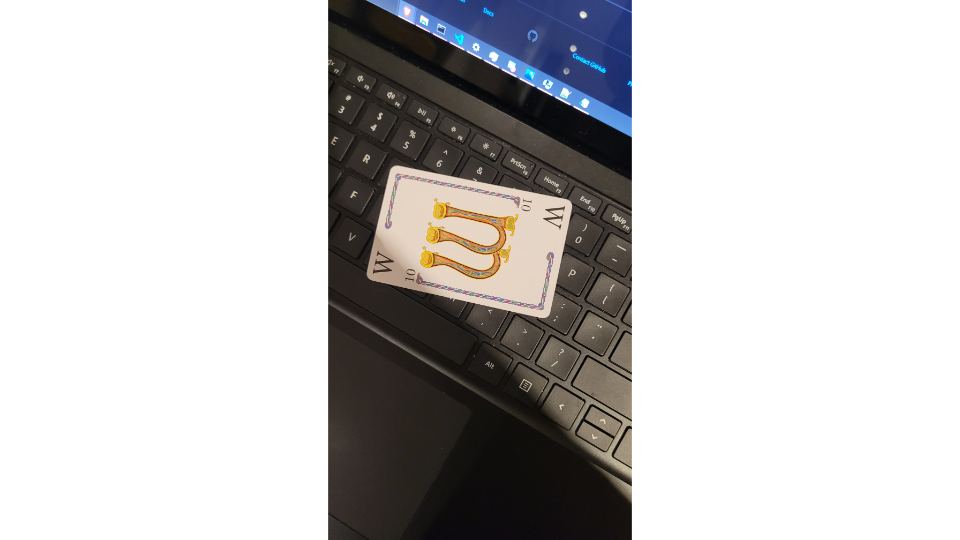W: (365, 163, 576, 320)
